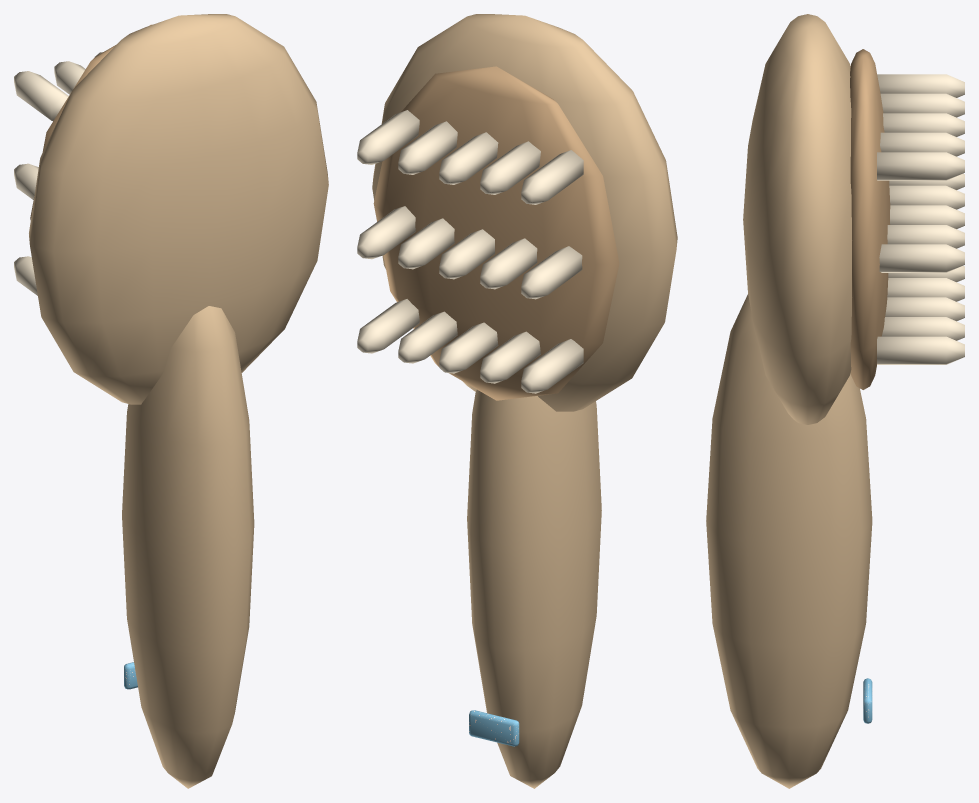
Rendered from brush.glb.
3 views of the same model, side by side, from view 1: azimuth 30°, elevation 25°; view 2: azimuth 150°, elevation 25°; view 3: azimuth 270°, elevation 25° (orthographic). The views are drawn at different scales.
Visible parts, largest first — view 1: Body; view 2: Body; view 3: Body.
Part boxes in pixels (x1=…): Body: x1=14, y1=14, x2=328, y2=788; Body: x1=357, y1=14, x2=677, y2=788; Body: x1=706, y1=14, x2=964, y2=788.
Size of the model in its own units: 0.0813 by 0.2 by 0.0615.
Materials: 3 (3 with a texture image).
